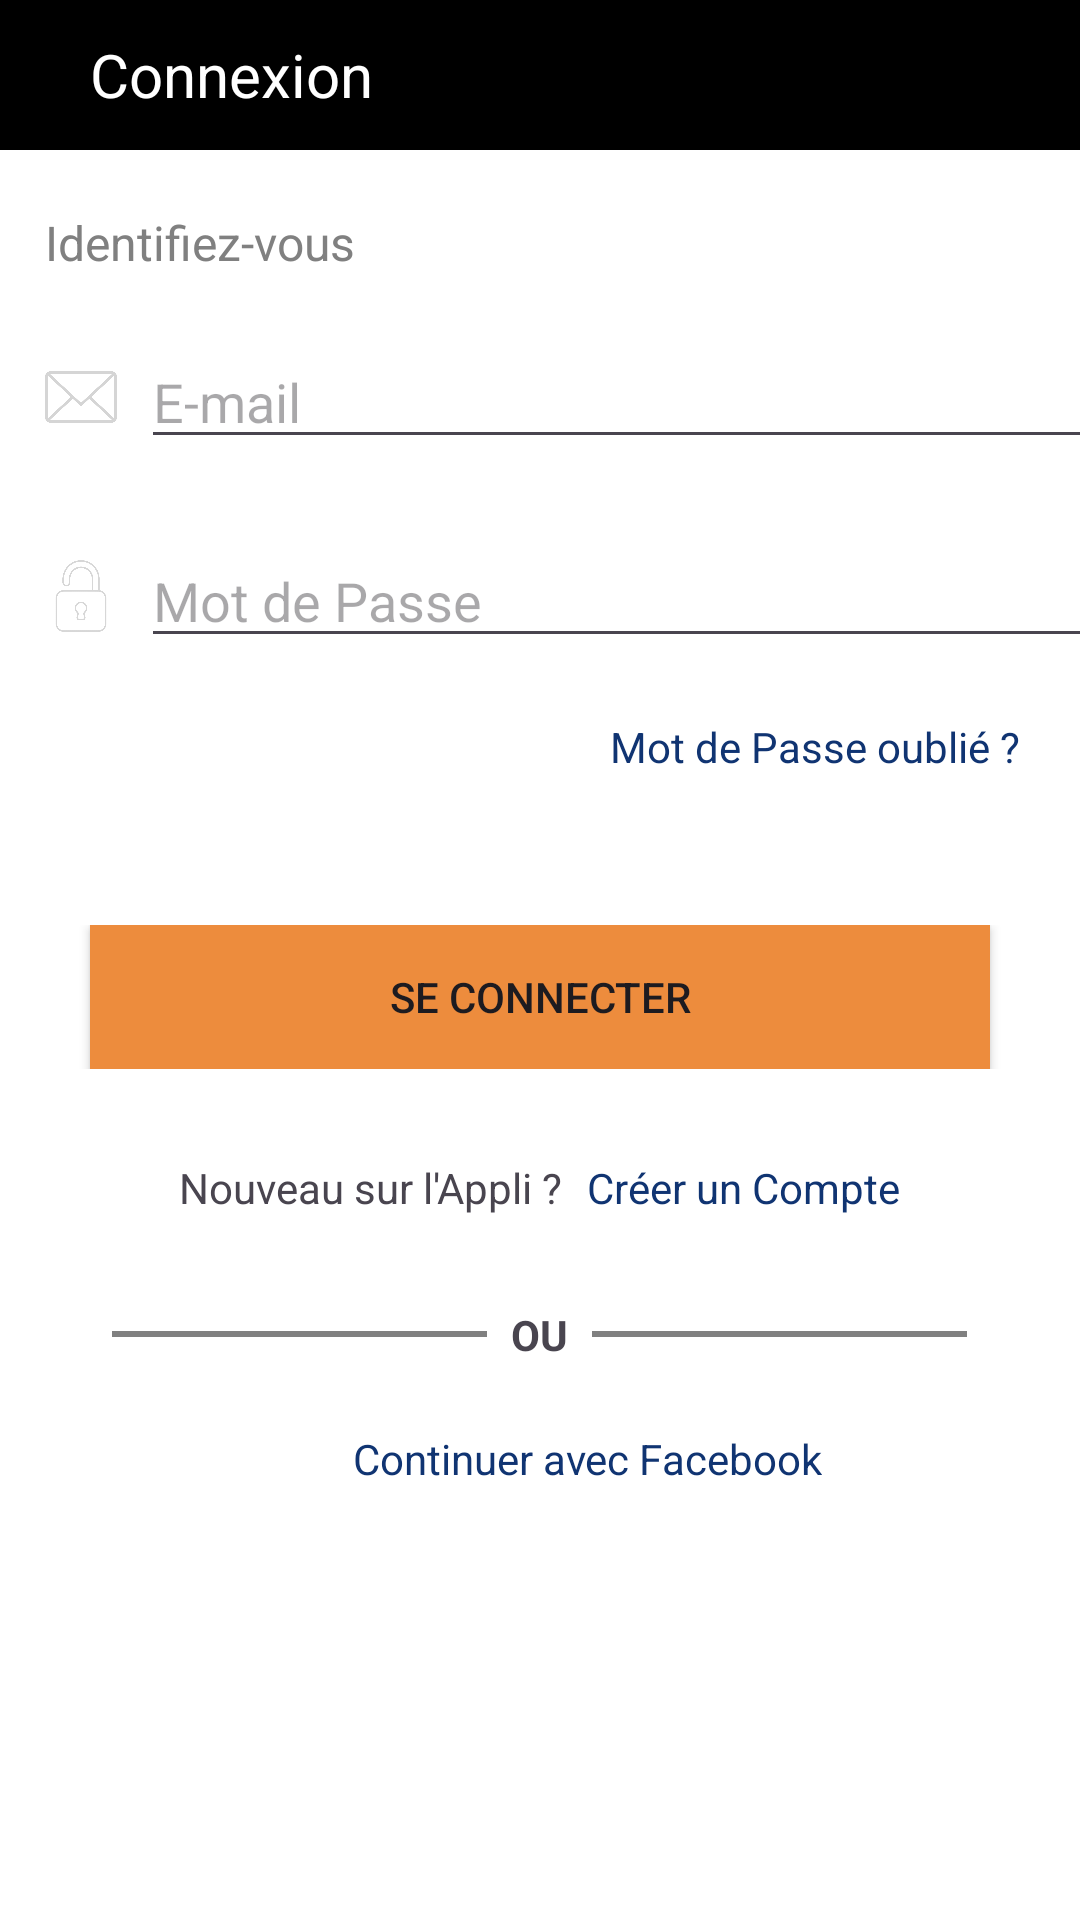

Icon bounding boxes for this 1080px x 1920px phone screenshot, format box(x1, y1, x2, y2):
password: box(56, 560, 106, 632)
